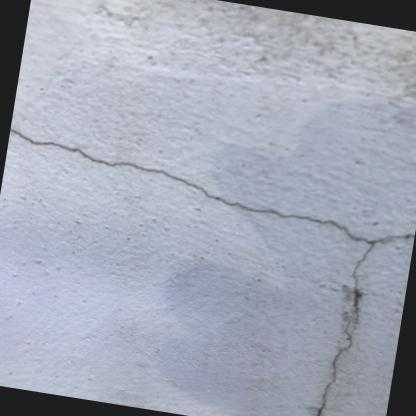crack: (11, 127, 412, 416)
